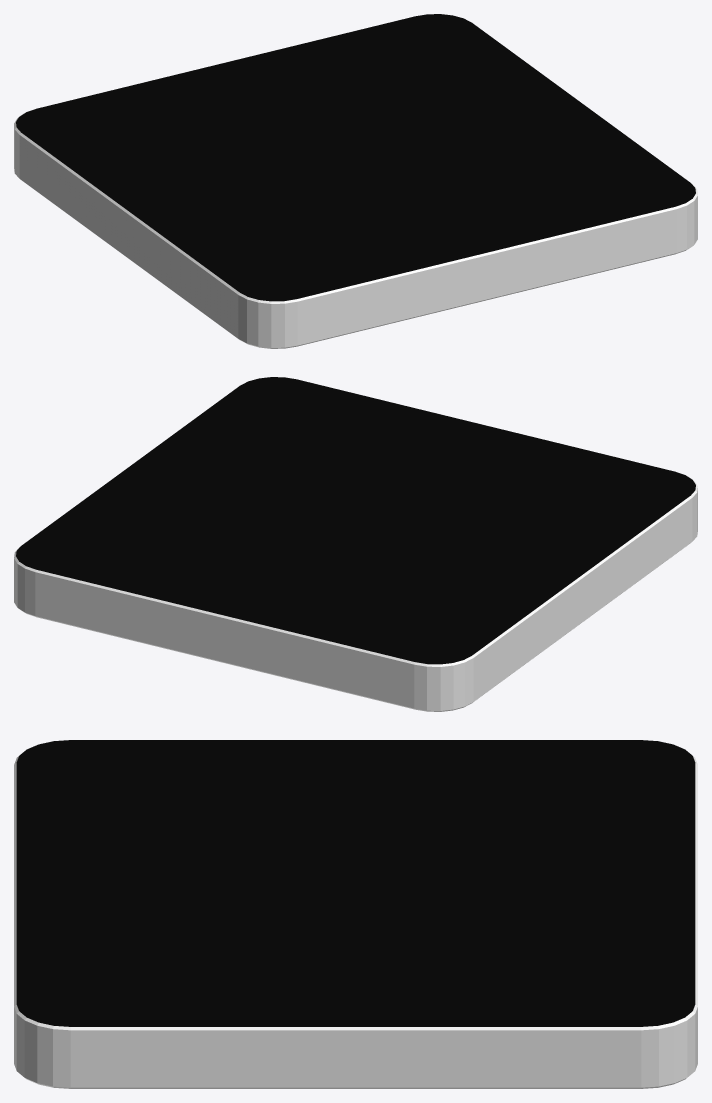
Rendered from phrase_machine_btn_square.gltf.
The picture shows the model from 3 angles, top to bottom: view 1: azimuth 30°, elevation 25°; view 2: azimuth 150°, elevation 25°; view 3: azimuth 270°, elevation 25°; orthographic projection. The views are drawn at different scales.
Visible parts, largest first — view 1: Cube; view 2: Cube; view 3: Cube.
Boxes of the visible parts, left/top/right/bottom form: Cube: left=14, top=14, right=697, bottom=348; Cube: left=14, top=377, right=697, bottom=711; Cube: left=14, top=740, right=697, bottom=1088.
Bounding box in the file's own units: 2 × 0.2 × 2.
2 materials, 2 textured.
